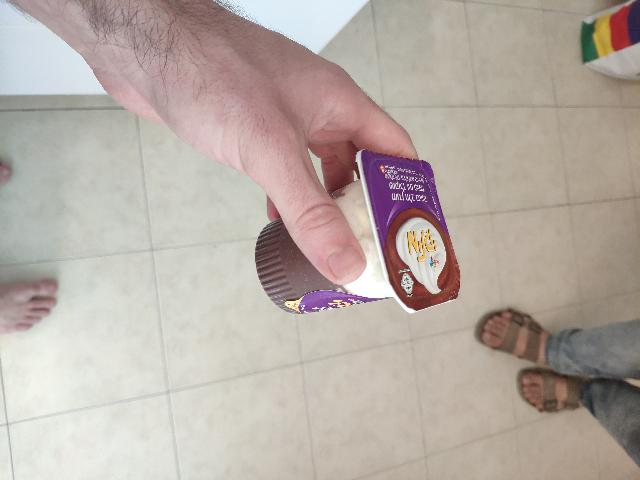milky: (326, 184, 479, 417)
